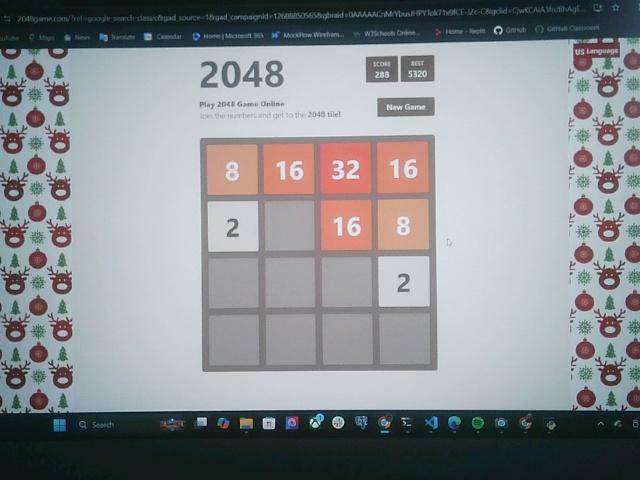board: (201, 136, 438, 373)
tile: (206, 144, 258, 196), (321, 199, 373, 251), (378, 199, 430, 251), (320, 143, 372, 194), (378, 256, 430, 307), (207, 202, 258, 253), (263, 144, 315, 194), (378, 142, 428, 193)
